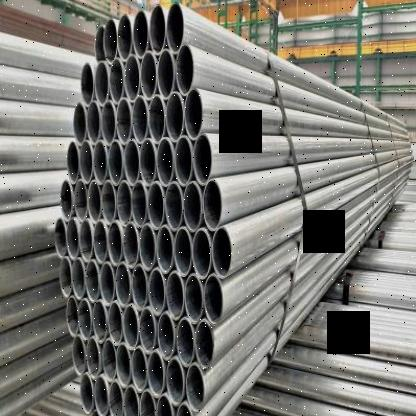pipe: (173, 224, 194, 280), (212, 224, 233, 280), (202, 178, 223, 232), (195, 318, 216, 372), (176, 42, 196, 98), (166, 0, 186, 56), (192, 226, 213, 279), (184, 179, 204, 234), (156, 308, 177, 360), (184, 273, 204, 326), (204, 274, 224, 327), (185, 86, 204, 141), (165, 179, 184, 234), (165, 91, 185, 143), (138, 303, 158, 355), (176, 315, 195, 369), (148, 347, 167, 401), (156, 223, 175, 276), (166, 271, 185, 324), (186, 364, 206, 414), (194, 132, 212, 187), (156, 134, 174, 189), (174, 134, 192, 188), (132, 8, 150, 62), (157, 48, 175, 101), (140, 50, 158, 103), (108, 55, 126, 108), (122, 136, 140, 189), (140, 136, 158, 189), (166, 356, 185, 406), (131, 94, 149, 145), (139, 220, 156, 274), (131, 263, 149, 314), (150, 3, 167, 57), (148, 268, 167, 316), (148, 94, 166, 144), (100, 98, 118, 148), (130, 344, 148, 394), (124, 53, 141, 104), (99, 259, 116, 310), (146, 182, 164, 230), (117, 11, 133, 64), (123, 300, 139, 353), (116, 181, 133, 230), (107, 218, 124, 267), (116, 96, 132, 148), (131, 180, 148, 228), (115, 262, 132, 310), (108, 138, 124, 188), (93, 216, 109, 266), (123, 220, 139, 270), (93, 297, 109, 347), (86, 178, 103, 224), (77, 296, 94, 342), (104, 16, 119, 67), (93, 371, 110, 416), (80, 61, 96, 108), (85, 338, 102, 382), (86, 100, 102, 146), (116, 343, 132, 389), (78, 370, 94, 416), (95, 60, 110, 108), (93, 138, 108, 186), (101, 180, 116, 228), (78, 218, 94, 263), (71, 256, 87, 301), (108, 300, 123, 348), (85, 259, 100, 306), (102, 338, 117, 384), (72, 334, 87, 379), (72, 102, 87, 146), (59, 256, 74, 300), (79, 139, 93, 186), (66, 140, 80, 186), (66, 216, 80, 262), (60, 178, 74, 223), (74, 179, 88, 223), (66, 294, 79, 338), (109, 376, 123, 416), (54, 217, 67, 260), (95, 23, 107, 66), (123, 384, 139, 416), (138, 388, 156, 416), (156, 393, 174, 416), (174, 401, 196, 416)
